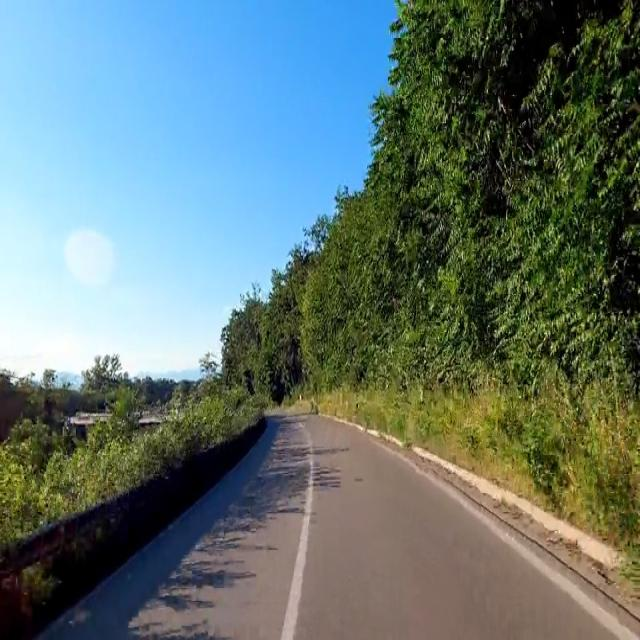lane: (281, 444, 313, 639)
road: (43, 414, 629, 638)
